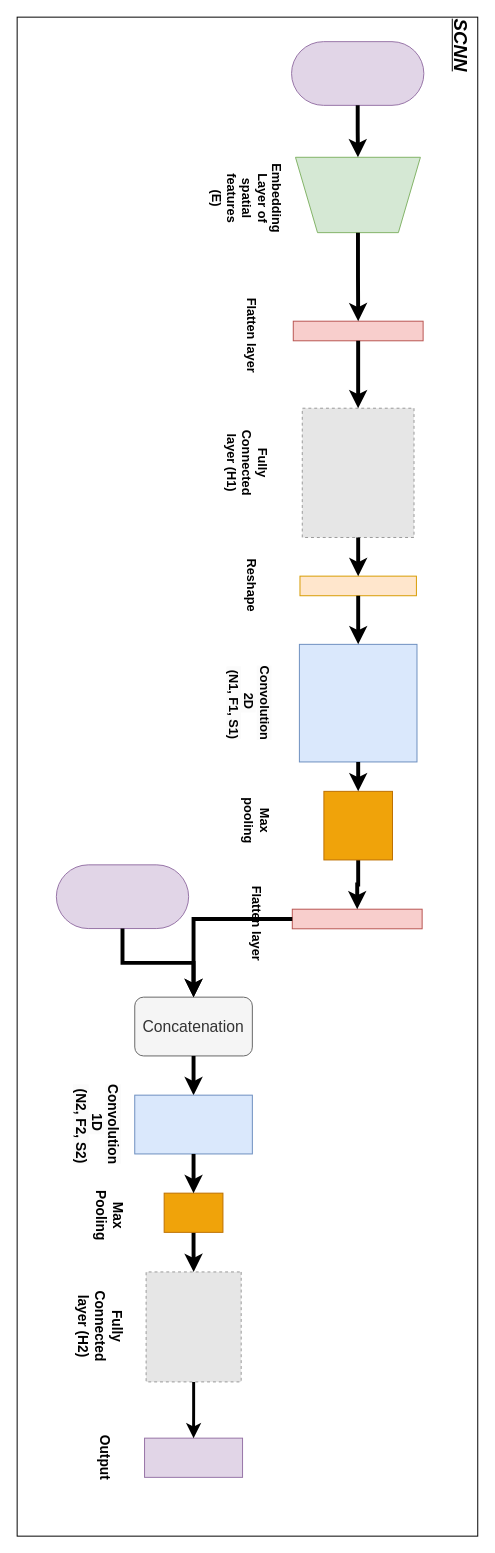
Some shapes in this 495 by 1553 pixel diagram are drawn without their labels. Grey dashed boxes stand in for pictures. The shapes that lost their labels are listed below. From the top down, each one's centre as x and y in pixels, then its label:
(x=357, y=73): Inputs1: Maps coordinates
(x=122, y=896): Inputs2: other attributes
